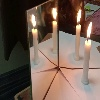fire: (86, 21, 92, 43)
